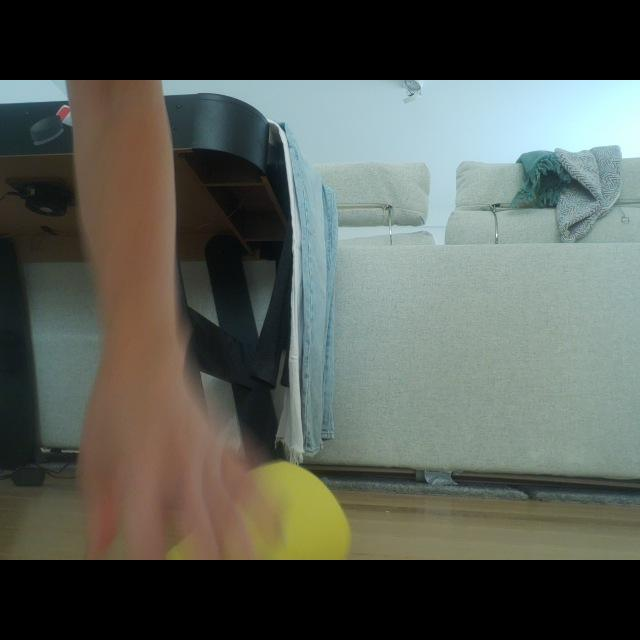bolya: (252, 461, 350, 559), (166, 539, 192, 559)
